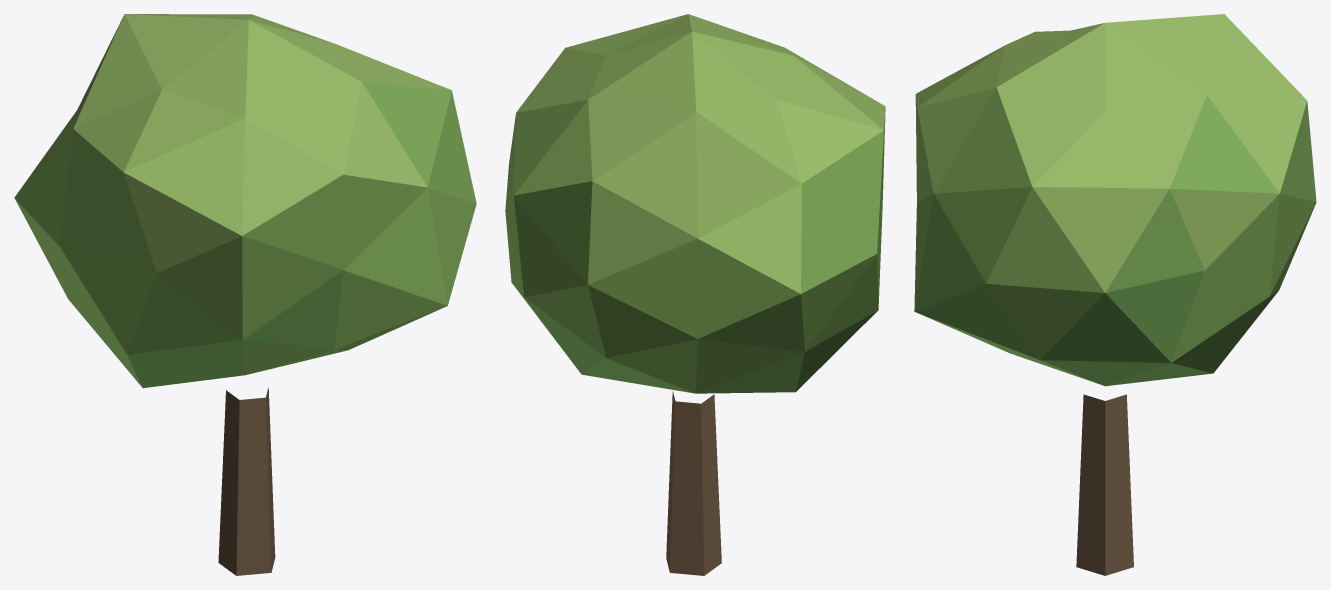
The model's file is low_tree_round.glb.
The picture shows the model from 3 angles, left to right: view 1: azimuth 30°, elevation 25°; view 2: azimuth 150°, elevation 25°; view 3: azimuth 270°, elevation 25°; orthographic projection. The views are drawn at different scales.
Parts seen in each view (by area): view 1: low_tree_round; view 2: low_tree_round; view 3: low_tree_round.
Boxes of the visible parts, x1,y1,x2,y2 form: low_tree_round: (14,14,476,575); low_tree_round: (505,14,885,575); low_tree_round: (914,14,1316,575).
Bounding box in the file's own units: 2.27 × 3.15 × 2.12.
